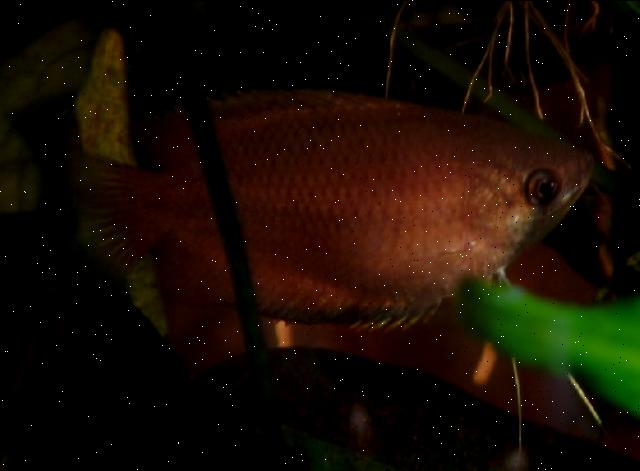Mulut: (555, 115, 623, 213)
Sirip Anal: (158, 232, 446, 338)
Sirip Ekor: (38, 112, 168, 306)
Sirip Punggung: (122, 78, 414, 160)
